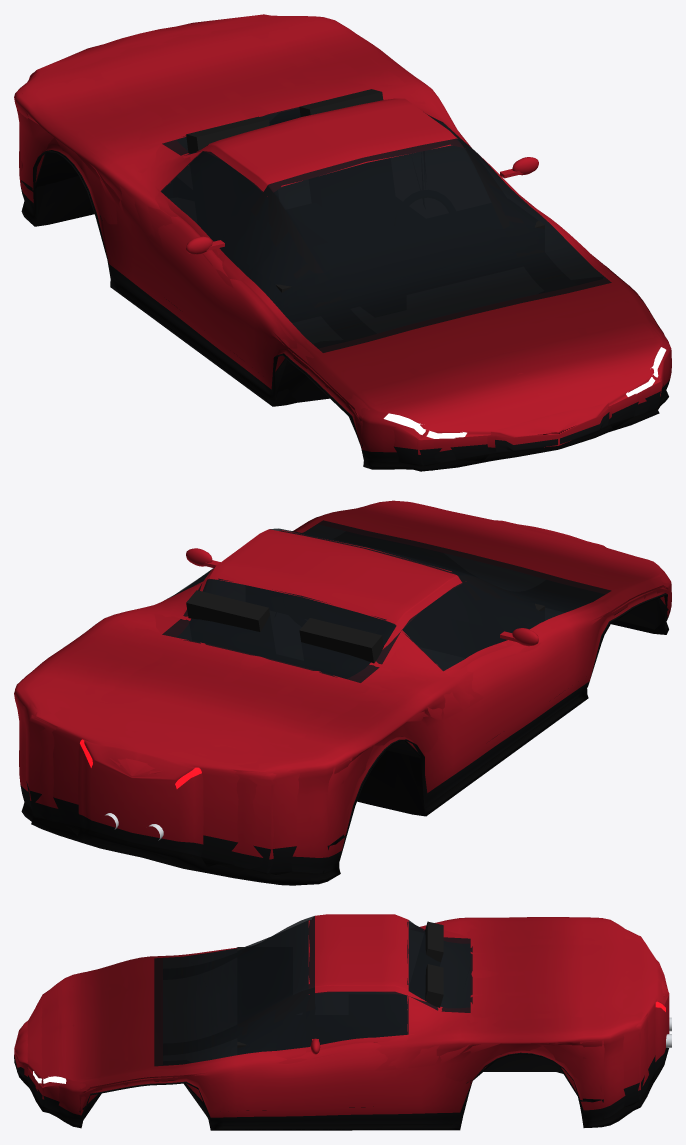
The model's file is sa_wedge.glb.
The picture shows the model from 3 angles, top to bottom: view 1: azimuth 30°, elevation 25°; view 2: azimuth 150°, elevation 25°; view 3: azimuth 270°, elevation 25°; orthographic projection. The views are drawn at different scales.
Visible parts, largest first — view 1: body (×2), interior, mirrors, grille, headlights; view 2: body (×2), interior, mirrors; view 3: body (×2), interior.
Part boxes in pixels (x1=…): body (×2): x1=14, y1=14, x2=671, y2=471; interior: x1=186, y1=89, x2=544, y2=292; mirrors: x1=186, y1=157, x2=538, y2=254; grille: x1=495, y1=412, x2=609, y2=452; headlights: x1=383, y1=347, x2=665, y2=438; body (×2): x1=14, y1=500, x2=671, y2=885; interior: x1=186, y1=590, x2=544, y2=663; mirrors: x1=186, y1=548, x2=538, y2=646; body (×2): x1=14, y1=914, x2=669, y2=1130; interior: x1=237, y1=921, x2=443, y2=1047.
Bounding box in the file's own units: 2.25 × 1.01 × 4.72.
